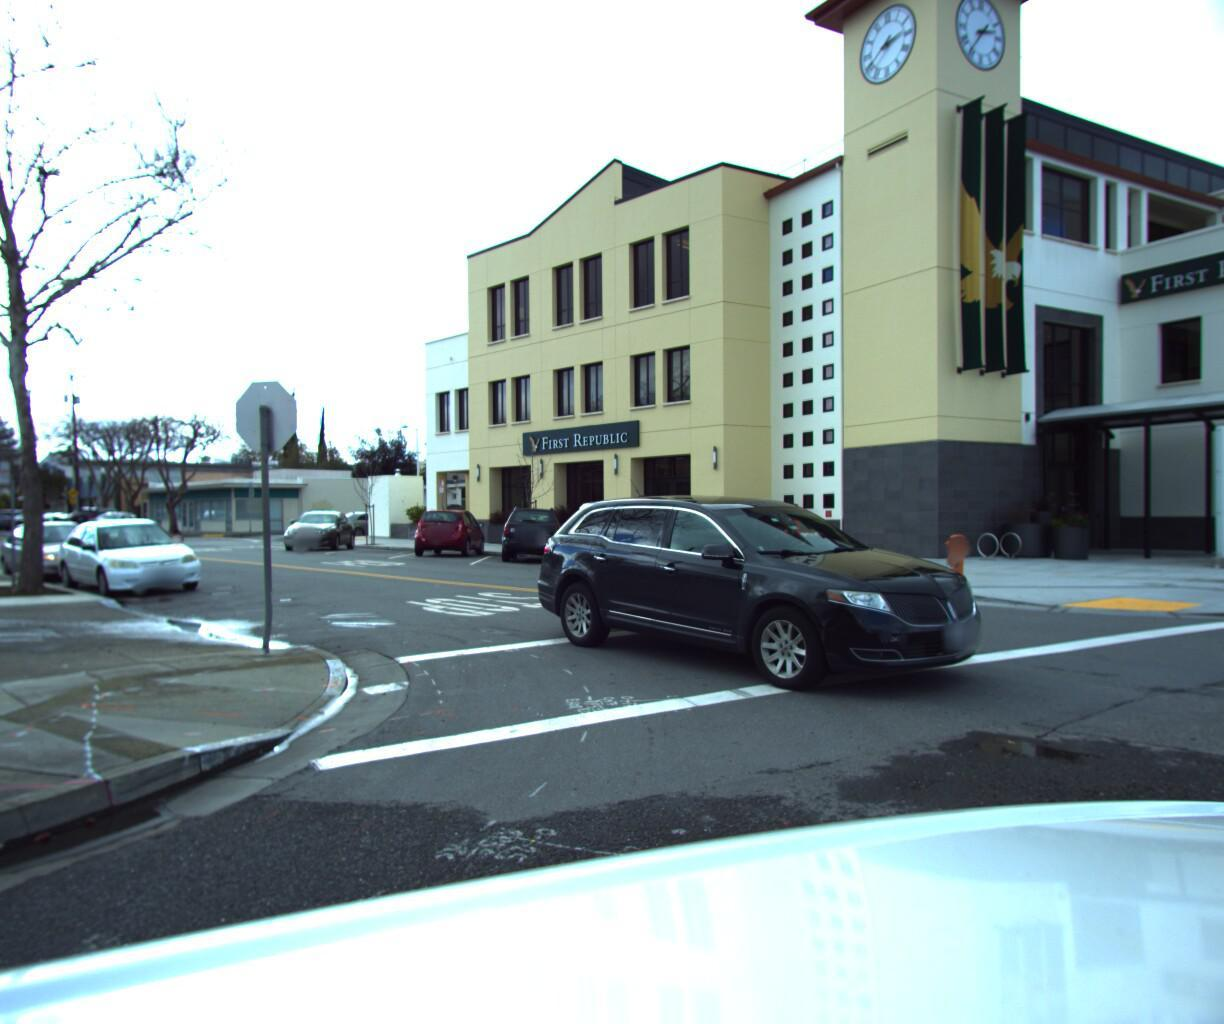car: (523, 482, 1033, 715), (49, 515, 221, 603), (497, 502, 572, 563), (276, 505, 368, 553), (408, 505, 491, 557), (325, 510, 415, 539), (82, 509, 162, 538), (69, 507, 145, 535)
